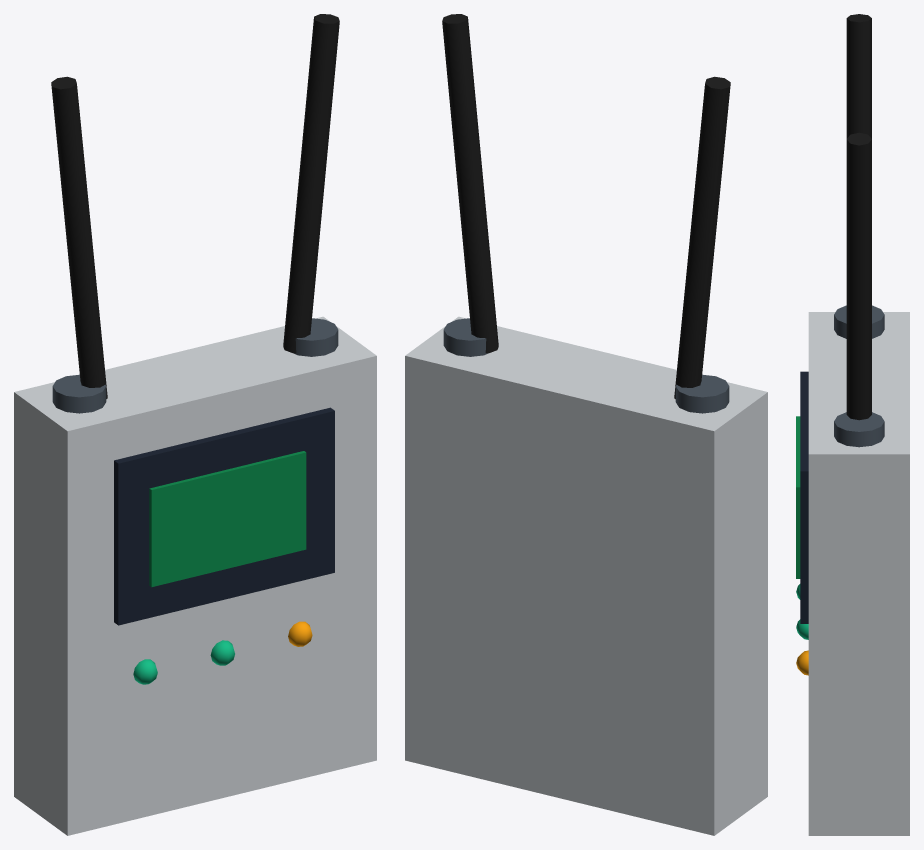
File: 5g-cpe.glb
3 views of the same model, side by side, from view 1: azimuth 30°, elevation 25°; view 2: azimuth 150°, elevation 25°; view 3: azimuth 270°, elevation 25° (orthographic). The views are drawn at different scales.
Size of the model in its own units: 0.4 by 0.9005 by 0.135.
